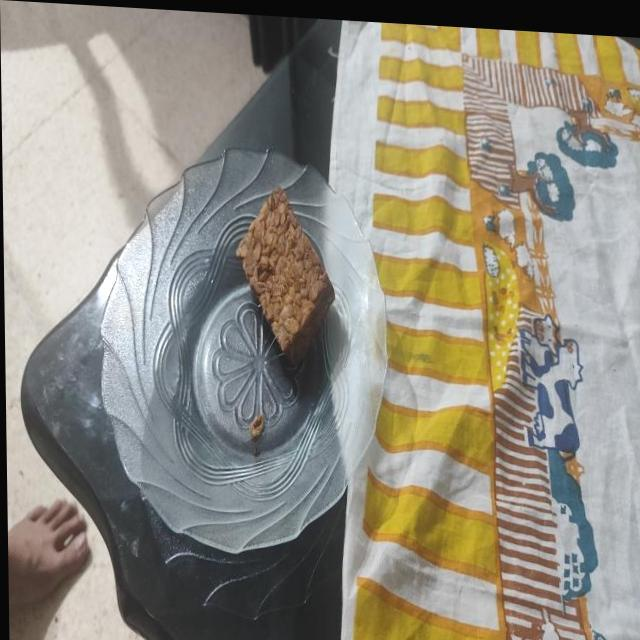tempe_goreng: (236, 188, 334, 362)
